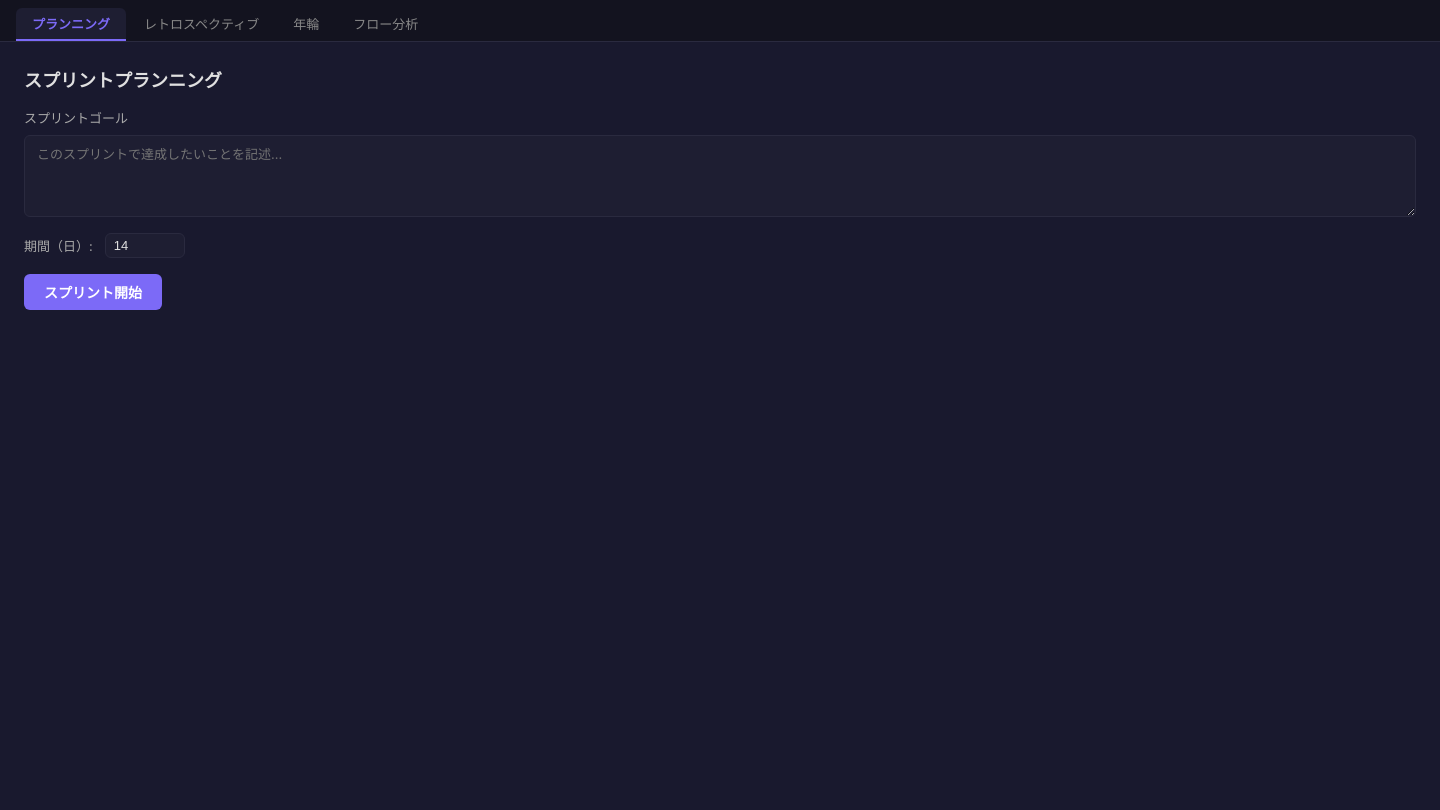
Test case: SprintScreen › フロー分析 タブ: sprintHistory ありでスループット値が表示される
Click the button "フロー分析" at (386, 24), box [337,8,434,41]
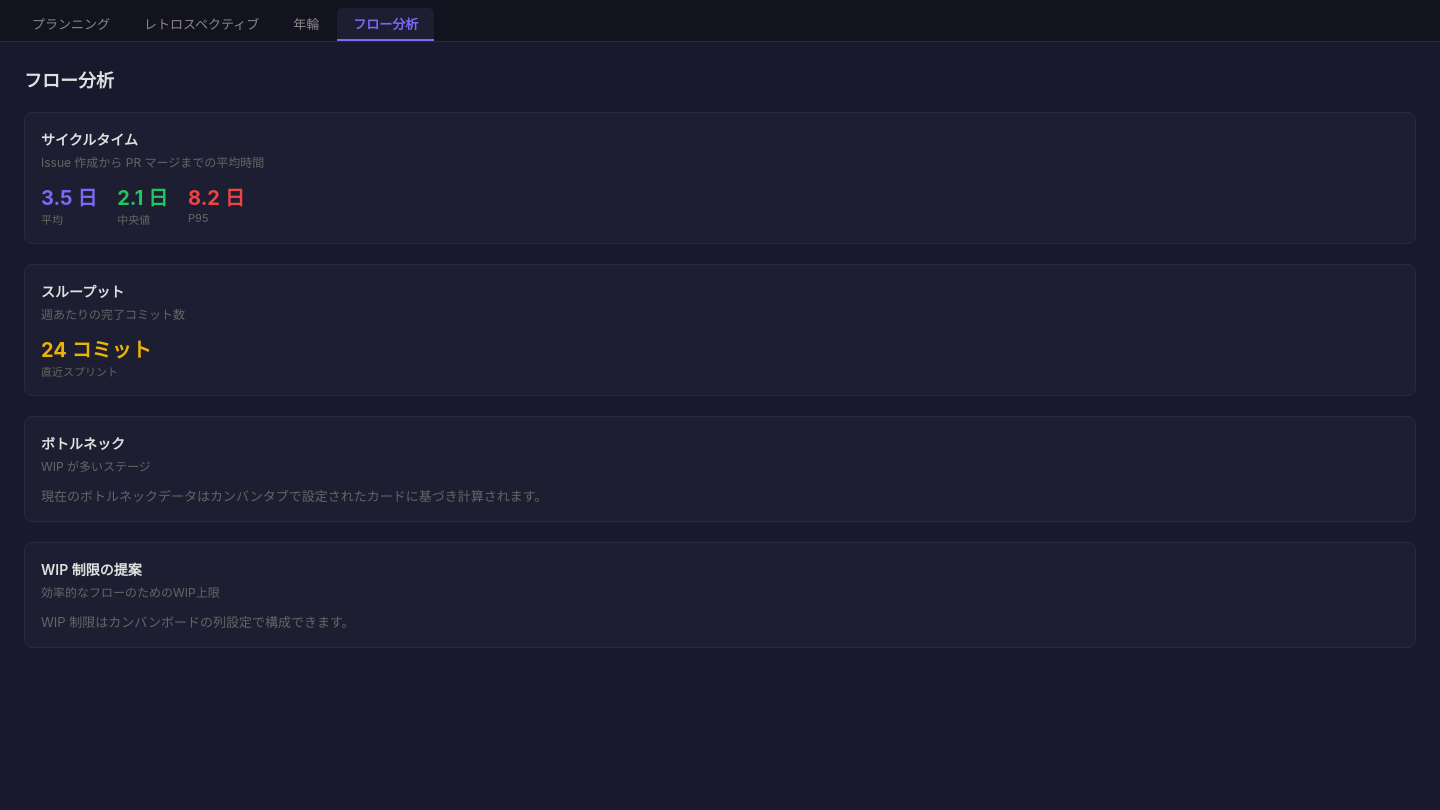
expect the text "24 コミット" is shown: met, box [41,338,152,362]
